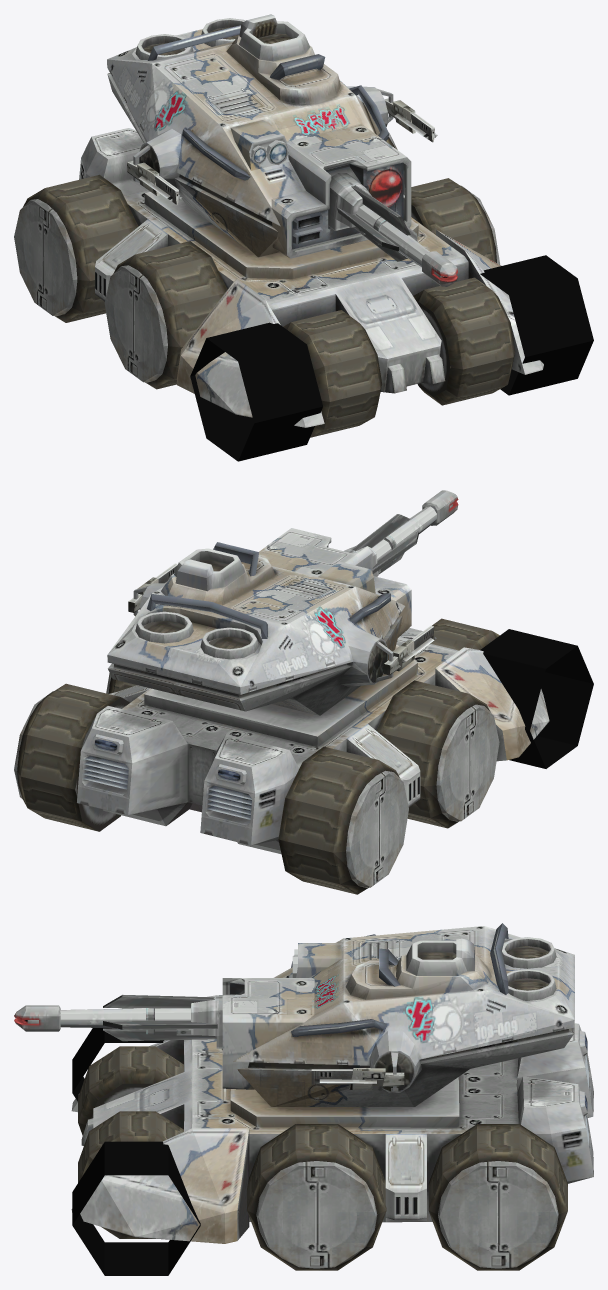
The model's file is VSHTNKH.obj.
The picture shows the model from 3 angles, top to bottom: view 1: azimuth 30°, elevation 25°; view 2: azimuth 150°, elevation 25°; view 3: azimuth 270°, elevation 25°; orthographic projection.
Parts seen in each view (by area): view 1: Node 8, Node 0, Node 6, Node 5, Node 32, Node 31, Node 3, Node 4, Node 9, Node 1, Node 15, Node 20; view 2: Node 8, Node 0, Node 6, Node 5, Node 2, Node 32, Node 9, Node 4, Node 20; view 3: Node 8, Node 0, Node 2, Node 1, Node 31, Node 9, Node 4, Node 3, Node 15, Node 32.
Boxes of the visible parts, <box> form: Node 8: <box>107,14,411,258</box>; Node 0: <box>79,128,543,427</box>; Node 6: <box>14,174,138,322</box>; Node 5: <box>104,241,227,389</box>; Node 32: <box>190,322,322,461</box>; Node 31: <box>480,255,593,395</box>; Node 3: <box>413,277,515,405</box>; Node 4: <box>283,310,382,437</box>; Node 9: <box>328,173,457,286</box>; Node 1: <box>411,178,499,264</box>; Node 15: <box>392,100,437,142</box>; Node 20: <box>137,162,181,204</box>; Node 8: <box>107,528,411,715</box>; Node 0: <box>77,628,549,854</box>; Node 6: <box>278,746,408,894</box>; Node 5: <box>376,680,499,828</box>; Node 2: <box>14,683,129,831</box>; Node 32: <box>480,629,593,768</box>; Node 9: <box>344,490,458,576</box>; Node 4: <box>430,618,499,650</box>; Node 20: <box>392,625,436,671</box>; Node 8: <box>222,923,574,1106</box>; Node 0: <box>71,1023,593,1243</box>; Node 2: <box>428,1124,567,1270</box>; Node 1: <box>247,1124,386,1270</box>; Node 31: <box>72,1141,200,1275</box>; Node 9: <box>14,993,242,1048</box>; Node 4: <box>78,1046,183,1135</box>; Node 3: <box>78,1111,183,1238</box>; Node 15: <box>311,1068,385,1090</box>; Node 32: <box>72,1028,164,1101</box>.
Bounding box in the file's own units: 6.36 × 4.69 × 9.31.
16 materials, 16 textured.
